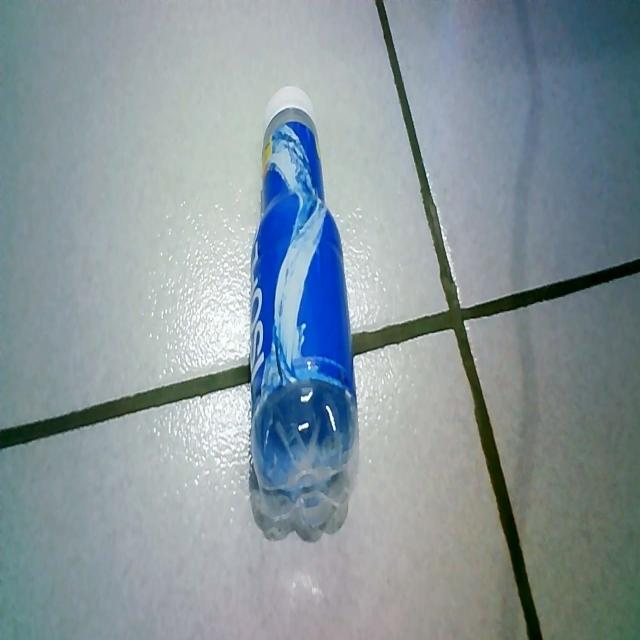botol: (228, 76, 375, 525)
